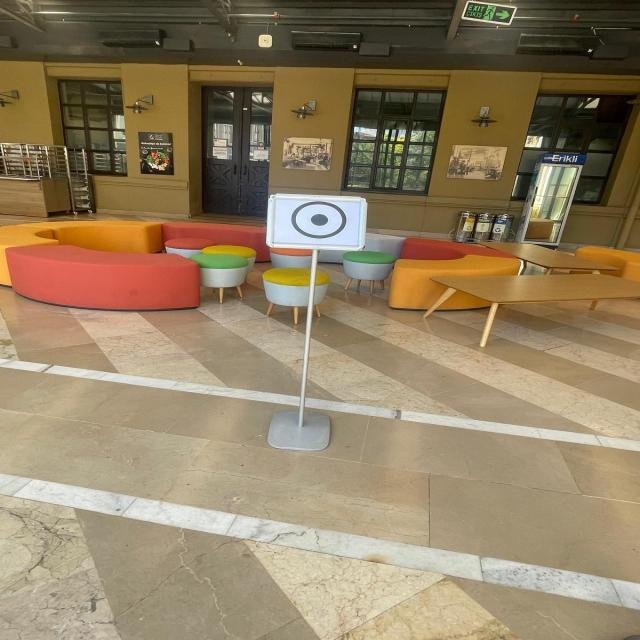Target: (261, 180, 382, 264)
inner: (301, 208, 337, 232)
